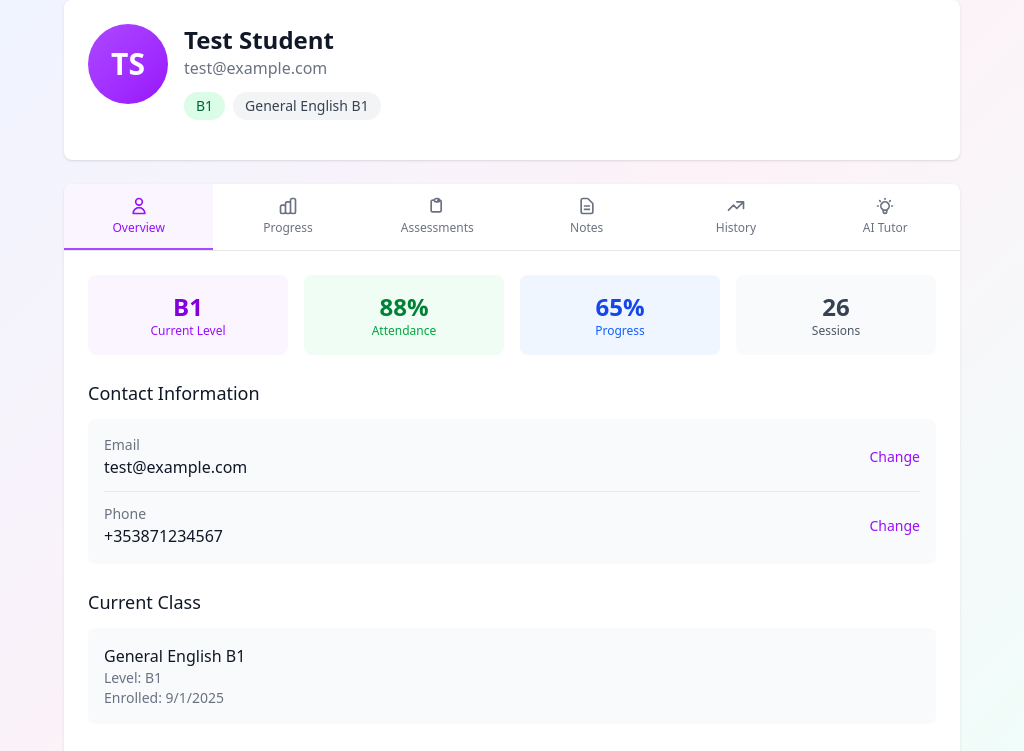
it: StudentProfilePage › should show AI Tutor placeholder when tab clicked
The width and height of the screenshot is (1024, 751).
// Click on AI Tutor tab
Click the button "AI Tutor" at (885, 217), box [811, 184, 960, 250]
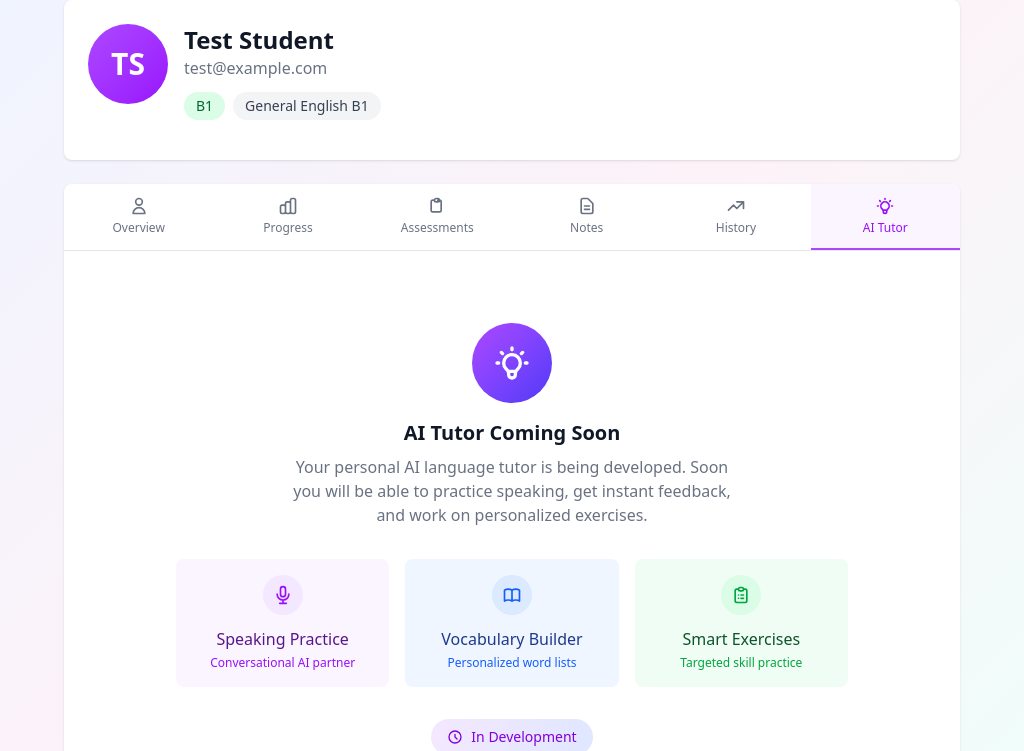
Expected: the heading "AI Tutor Coming Soon" is shown, [404, 419, 620, 446]
Expected: the heading "Speaking Practice" is shown, [216, 628, 349, 650]
Expected: the heading "Vocabulary Builder" is shown, [441, 628, 583, 650]
